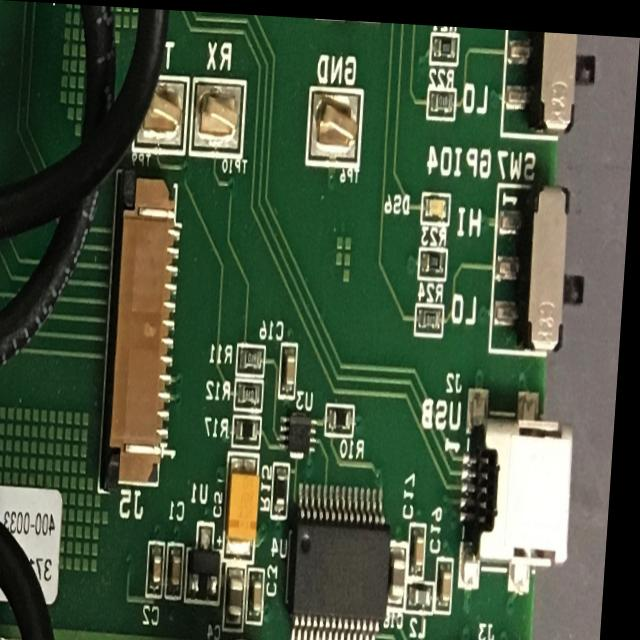IC: (292, 479, 399, 640), (193, 519, 232, 602), (284, 409, 326, 454)
LED: (423, 185, 456, 220)
capacitor: (231, 559, 255, 624), (395, 535, 416, 606), (283, 336, 304, 396), (253, 564, 274, 621), (442, 550, 462, 609), (173, 538, 193, 595), (415, 516, 434, 575), (154, 537, 173, 596)
component text: (548, 69, 571, 120), (541, 289, 562, 338), (252, 345, 264, 363), (250, 382, 262, 399), (430, 307, 441, 323), (440, 86, 451, 101)
connector: (104, 168, 190, 492), (465, 378, 583, 591), (464, 633, 575, 640), (315, 15, 381, 19)
electrolytic capacitor: (230, 447, 267, 556), (213, 633, 322, 640)
inductor: (413, 576, 444, 608)
resistor: (277, 457, 298, 514), (417, 297, 450, 333), (330, 397, 361, 433), (427, 82, 459, 116), (420, 242, 452, 276), (239, 375, 269, 411), (429, 26, 460, 59), (237, 412, 267, 446), (242, 338, 271, 373)
switch: (493, 172, 594, 350), (502, 24, 599, 134)
test point: (307, 84, 366, 163), (191, 75, 248, 156), (135, 75, 190, 150)
